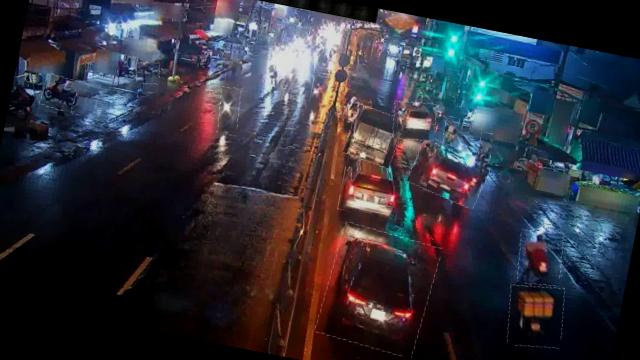Bike: (502, 280, 570, 352), (514, 226, 568, 288), (39, 73, 79, 112), (214, 86, 244, 136), (309, 74, 333, 108), (133, 60, 161, 86), (476, 132, 494, 164), (441, 116, 460, 146), (264, 59, 282, 87), (281, 64, 299, 91)
Car: (315, 221, 441, 357), (408, 138, 492, 207), (337, 150, 407, 220), (389, 98, 439, 144)
Truck: (342, 103, 405, 168)
